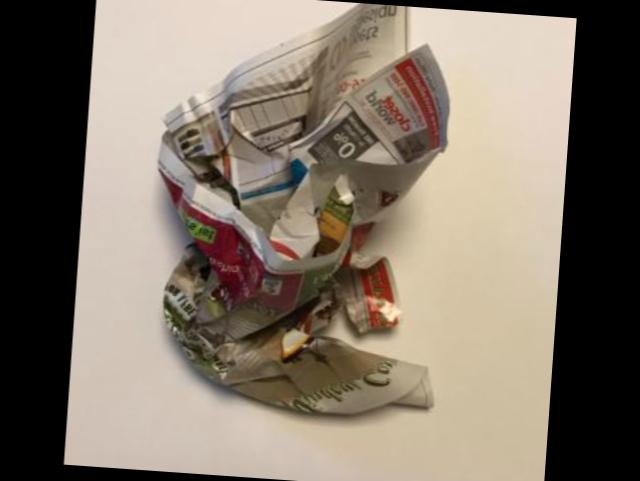cardboard paper: (156, 2, 446, 409)
